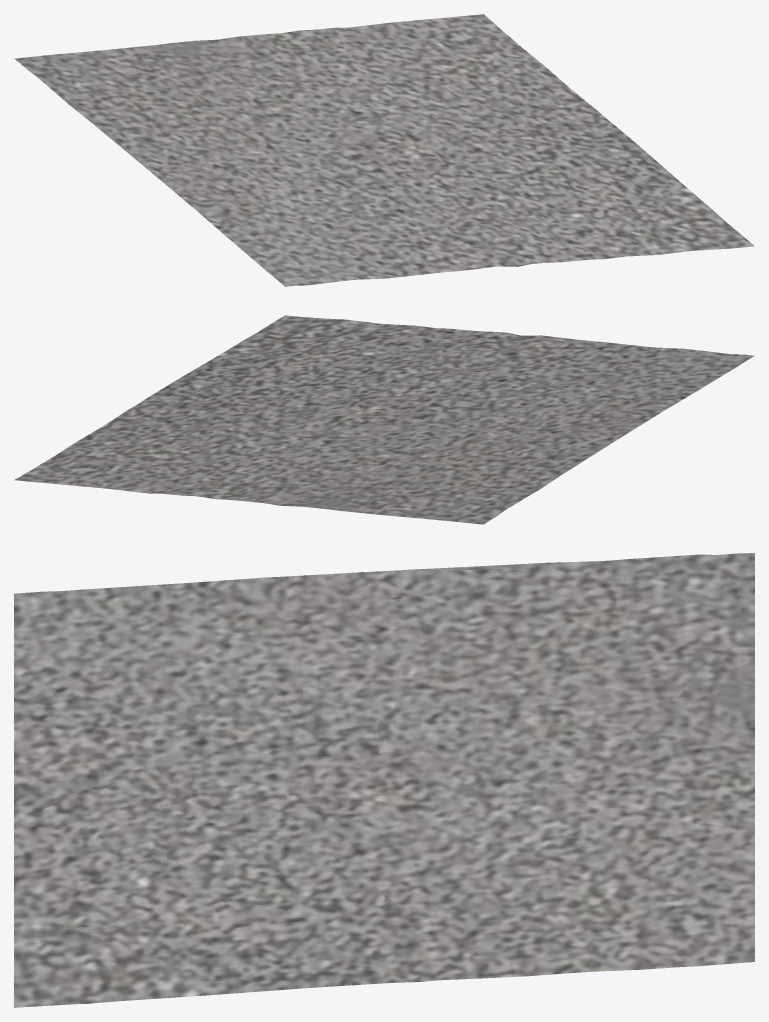
3 renders of one model, top to bottom at view 1: azimuth 30°, elevation 25°; view 2: azimuth 150°, elevation 25°; view 3: azimuth 270°, elevation 25°, orthographic. The views are drawn at different scales.
Size of the model in its own units: 0.8373 by 0.1768 by 0.8374.
Materials: 3 (3 with a texture image).
